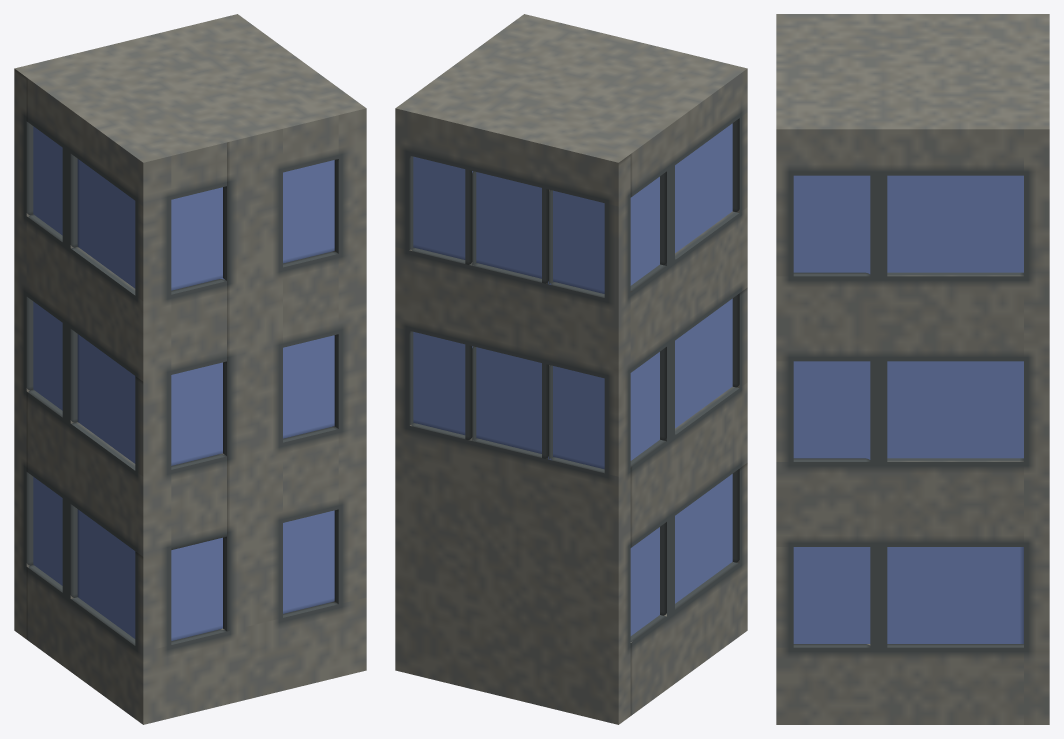
3 renders of one model, left to right at view 1: azimuth 30°, elevation 25°; view 2: azimuth 150°, elevation 25°; view 3: azimuth 270°, elevation 25°, orthographic. The views are drawn at different scales.
Parts seen in each view (by area): view 1: Content; view 2: Content; view 3: Content.
Boxes of the visible parts, bbox=[...] form: Content: bbox=[14, 14, 366, 724]; Content: bbox=[395, 14, 747, 724]; Content: bbox=[776, 14, 1049, 724].
Size of the model in its own units: 32 by 77 by 32.
Materials: 1 (1 with a texture image).
